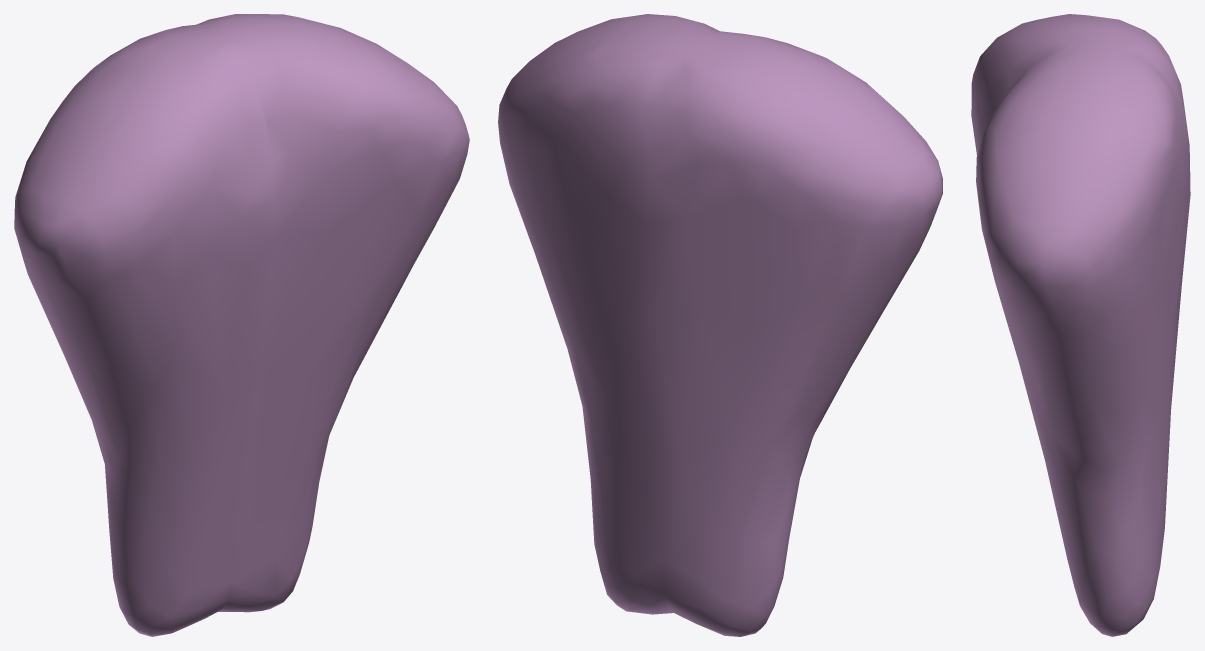
3 renders of one model, left to right at view 1: azimuth 30°, elevation 25°; view 2: azimuth 150°, elevation 25°; view 3: azimuth 270°, elevation 25°, orthographic. The views are drawn at different scales.
Parts seen in each view (by area): view 1: 蚓叶; view 2: 蚓叶; view 3: 蚓叶.
Boxes of the visible parts, <box> form: 蚓叶: <box>14,14,469,636</box>; 蚓叶: <box>498,14,942,636</box>; 蚓叶: <box>971,14,1190,636</box>.
Size of the model in its own units: 0.0195 by 0.0254 by 0.00896.
